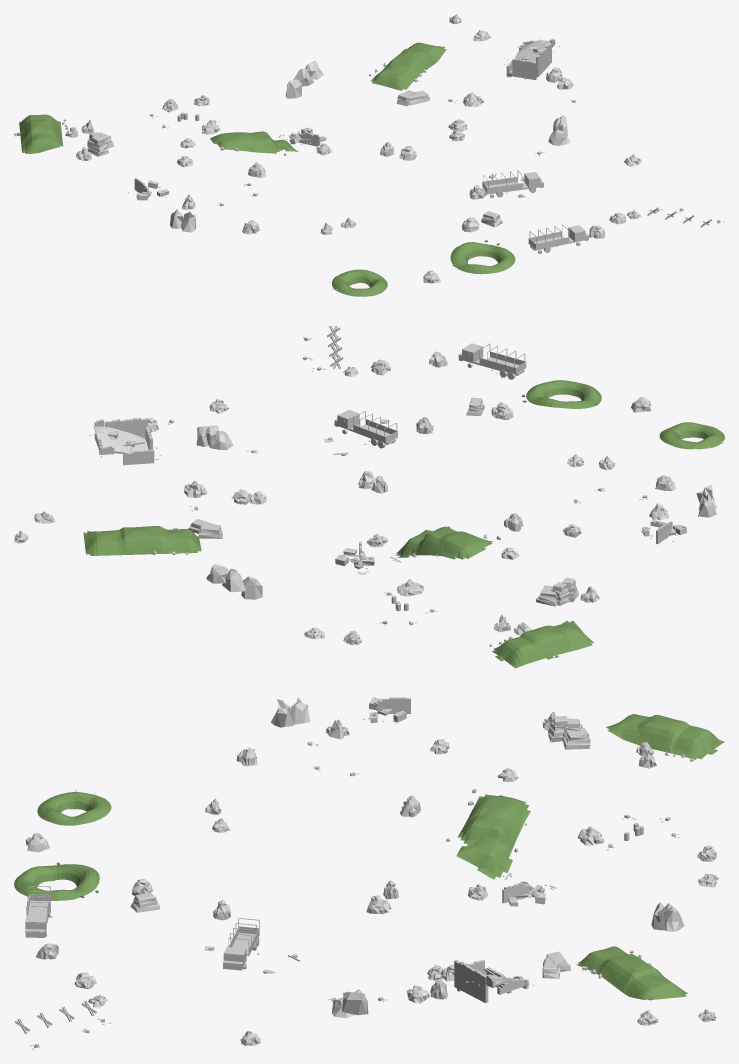
The model's file is outdoor_03.glb.
The picture shows the model from 3 angles, top to bottom: view 1: azimuth 30°, elevation 25°; view 2: azimuth 150°, elevation 25°; view 3: azimuth 270°, elevation 25°; orthographic projection. The views are drawn at different scales.
Visible parts, largest first — view 1: gas_station_town; view 2: gas_station_town; view 3: gas_station_town.
Boxes of the visible parts, x1,y1,x2,y2 form: gas_station_town: (14, 14, 724, 296); gas_station_town: (14, 325, 724, 668); gas_station_town: (14, 697, 724, 1049).
Bounding box in the file's own units: 83.4 × 9.87 × 80.87.
Materials: 2 (1 with a texture image).
